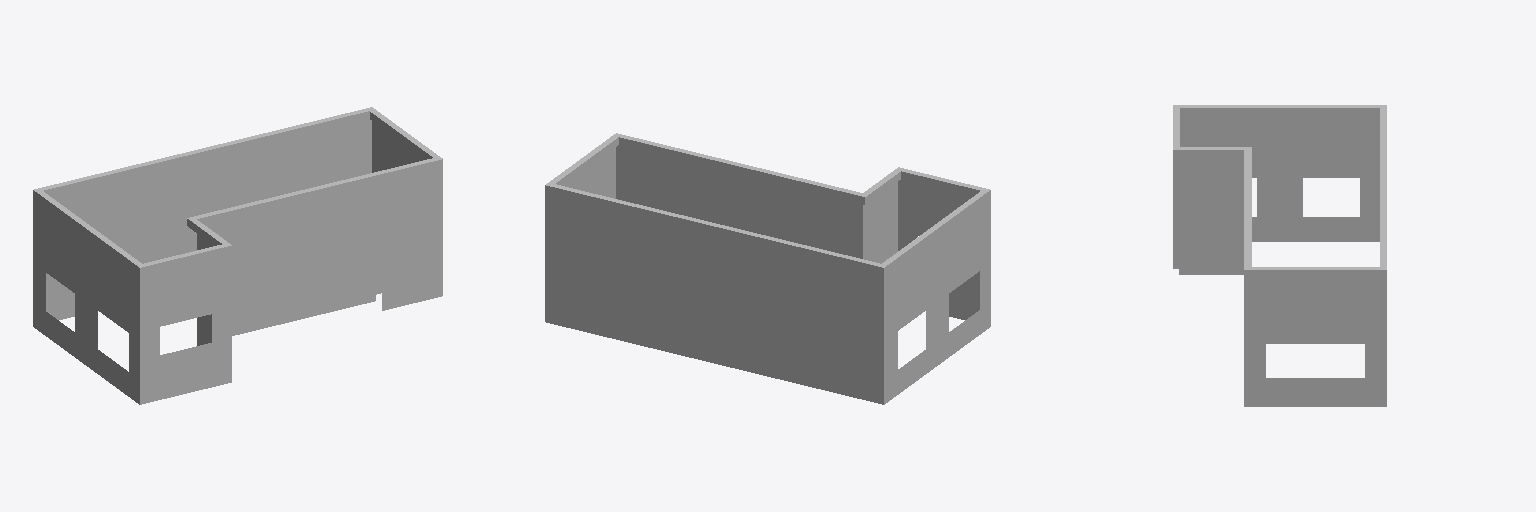
The model's file is OBJ_House_Walls.obj.
The picture shows the model from 3 angles: view 1: azimuth 30°, elevation 25°; view 2: azimuth 150°, elevation 25°; view 3: azimuth 270°, elevation 25°; orthographic projection.
Visible parts, largest first — view 1: Cube.011_Cube.002; view 2: Cube.011_Cube.002; view 3: Cube.011_Cube.002.
Part boxes in pixels (bbox=[...]): Cube.011_Cube.002: bbox=[33, 107, 442, 404]; Cube.011_Cube.002: bbox=[545, 133, 990, 404]; Cube.011_Cube.002: bbox=[1173, 105, 1386, 406].
Bounding box in the file's own units: 16.86 × 6.51 × 9.2.